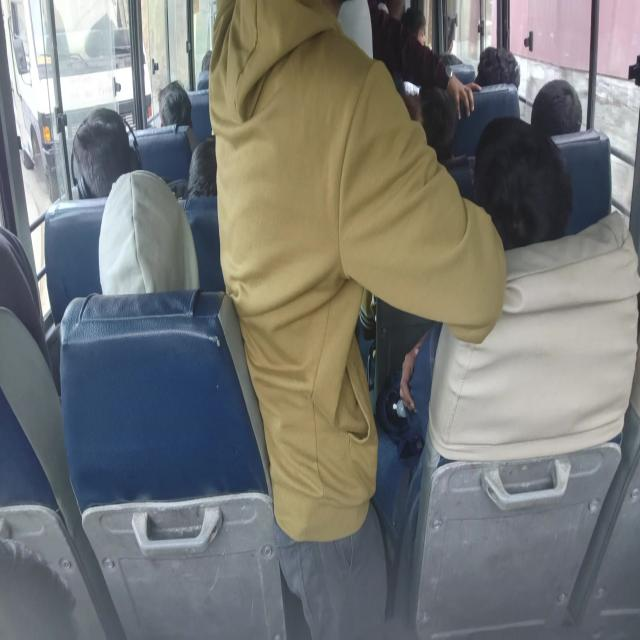person: (208, 0, 508, 638), (471, 114, 573, 250), (368, 0, 482, 121), (98, 169, 200, 295), (70, 106, 141, 199), (530, 78, 582, 136), (418, 84, 457, 160), (158, 80, 198, 154), (474, 45, 520, 89), (186, 135, 217, 198)
